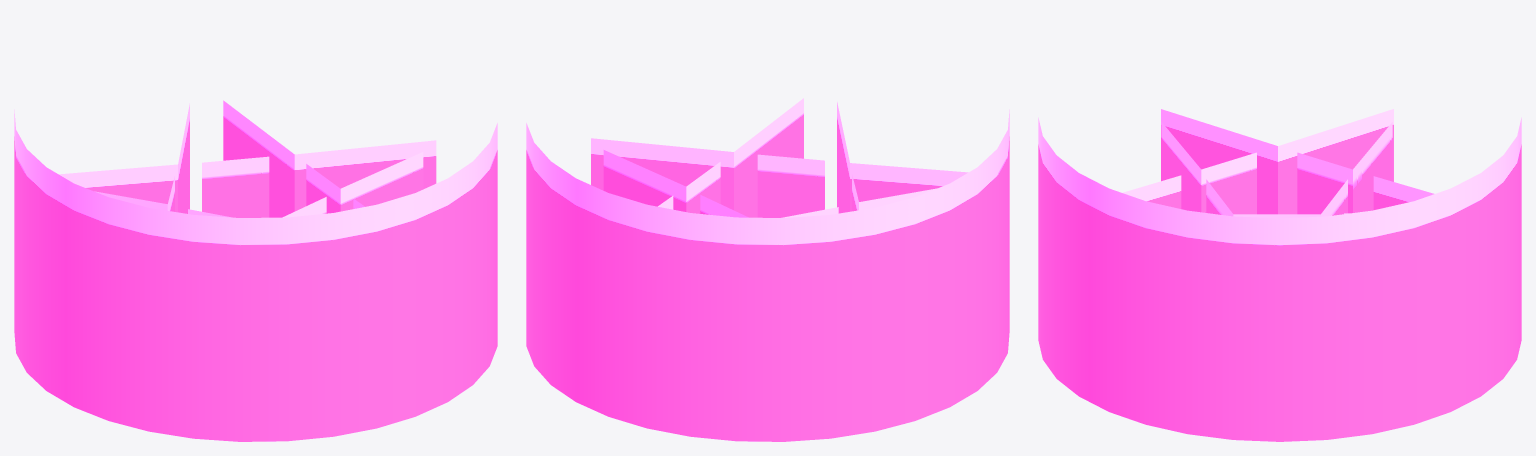
The model's file is penta_lights.glb.
3 views of the same model, side by side, from view 1: azimuth 30°, elevation 25°; view 2: azimuth 150°, elevation 25°; view 3: azimuth 270°, elevation 25° (orthographic).
Parts seen in each view (by area): view 1: Cylinder.007, penta_lights; view 2: Cylinder.007, penta_lights; view 3: Cylinder.007, penta_lights.
Boxes of the visible parts, bbox=[...] form: Cylinder.007: bbox=[14, 109, 497, 441]; penta_lights: bbox=[59, 100, 436, 217]; Cylinder.007: bbox=[526, 109, 1009, 441]; penta_lights: bbox=[591, 98, 968, 217]; Cylinder.007: bbox=[1038, 117, 1521, 441]; penta_lights: bbox=[1122, 109, 1433, 218].
Size of the model in its own units: 6.5 by 3.32 by 6.5.
Materials: 1 (1 with a texture image).
